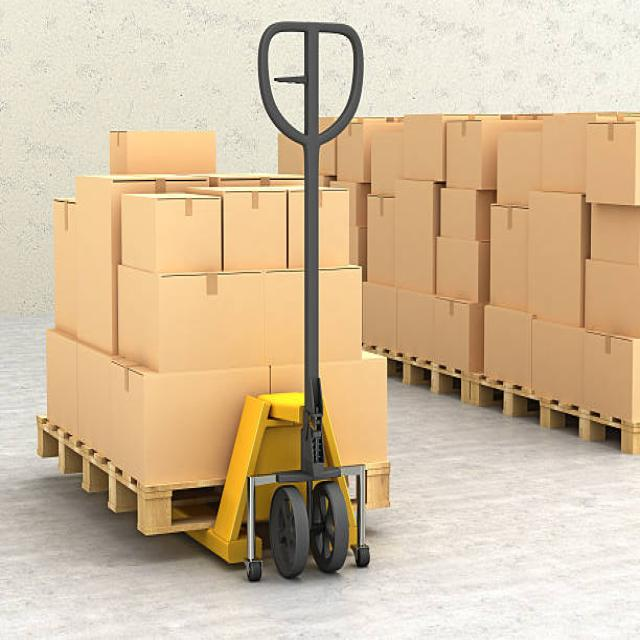Wooden-Pallets: (26, 409, 164, 545), (473, 372, 637, 483), (397, 347, 475, 409)
